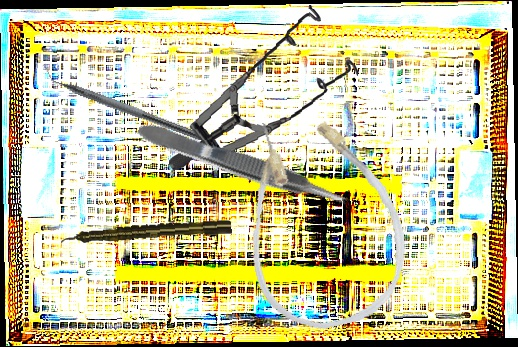Cannula: (223, 98, 421, 341)
Chopper: (35, 62, 208, 142)
Handpiece: (60, 218, 232, 247)
Speculum: (156, 1, 366, 171)
Tissue Forceps: (135, 114, 354, 216)
